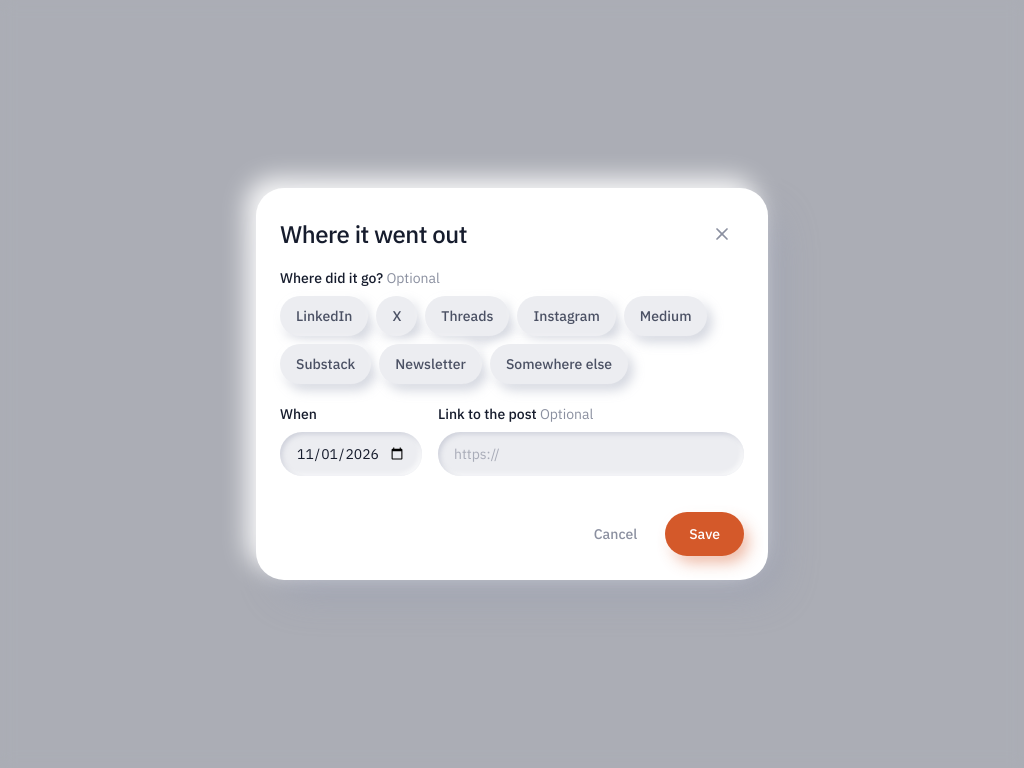
Test: PostSheet › shows the server error and stays open
Click the button "Save" at [705, 534], box [665, 512, 744, 556]
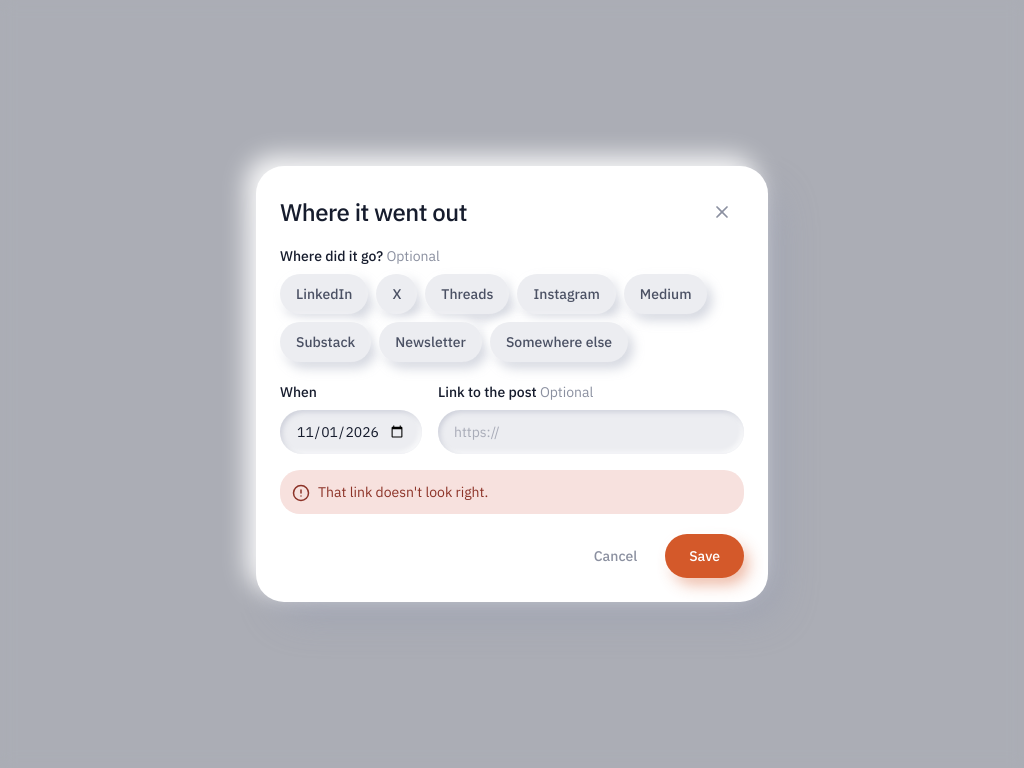
expect the text "That link doesn't look right." is shown: met, box [318, 482, 488, 502]
